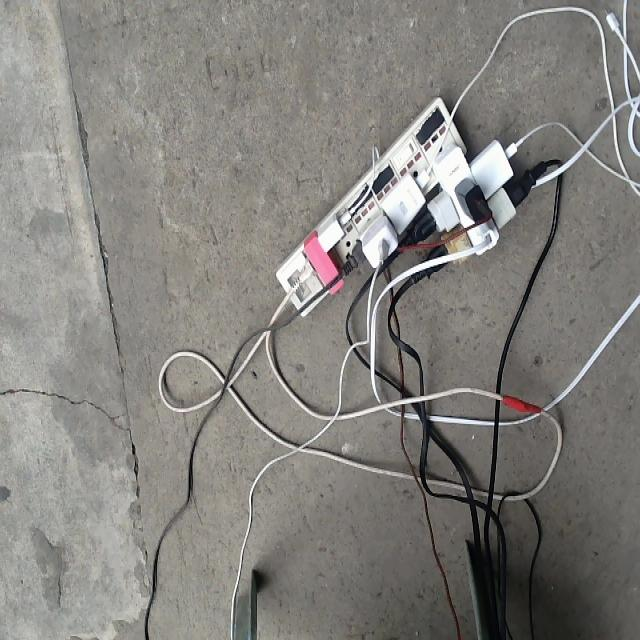-: (275, 97, 542, 316)
